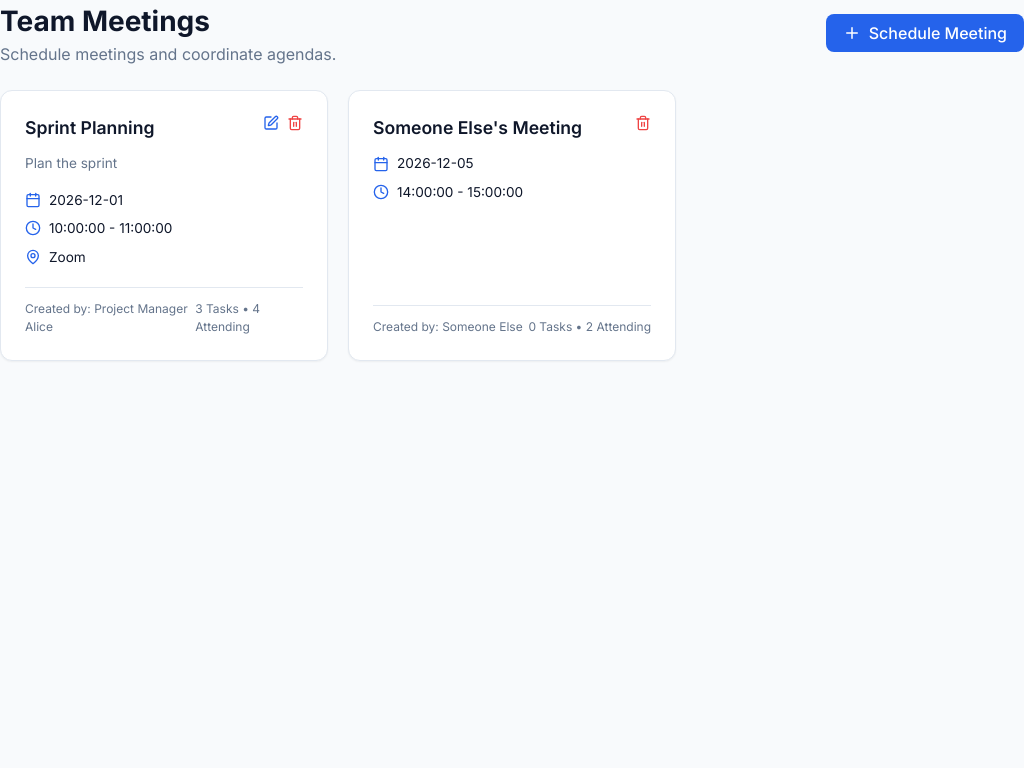
Scenario: MeetingsPage — edit meeting (real component, jsdom) › resets to create mode (empty form) after Cancel is clicked following an edit
Expected: the heading "Sprint Planning" is shown, [25,115,154,141]
Click the button titled "Edit Meeting". click: click(271, 125)
box: [263,115,279,135]
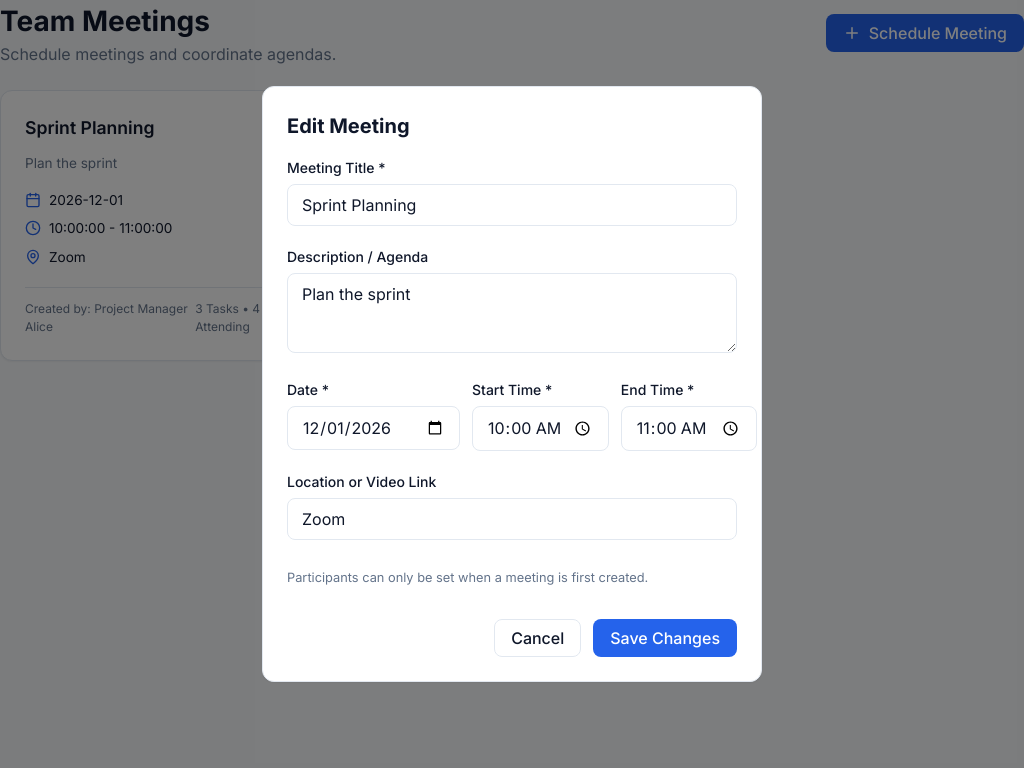
Now the heading "Edit Meeting" is shown, box [287,114,410,138]
Click the button "Cancel". click: click(538, 638)
box: [494,619,581,657]
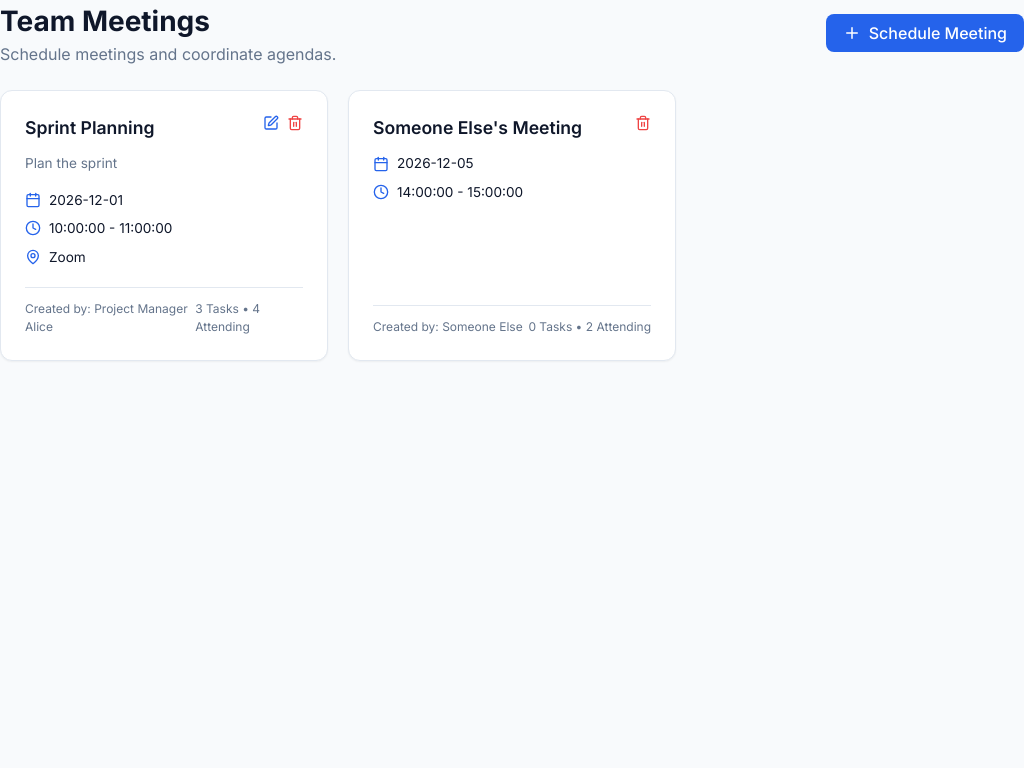
Click the button "Schedule Meeting". click: click(925, 33)
box: [826,14,1023,52]
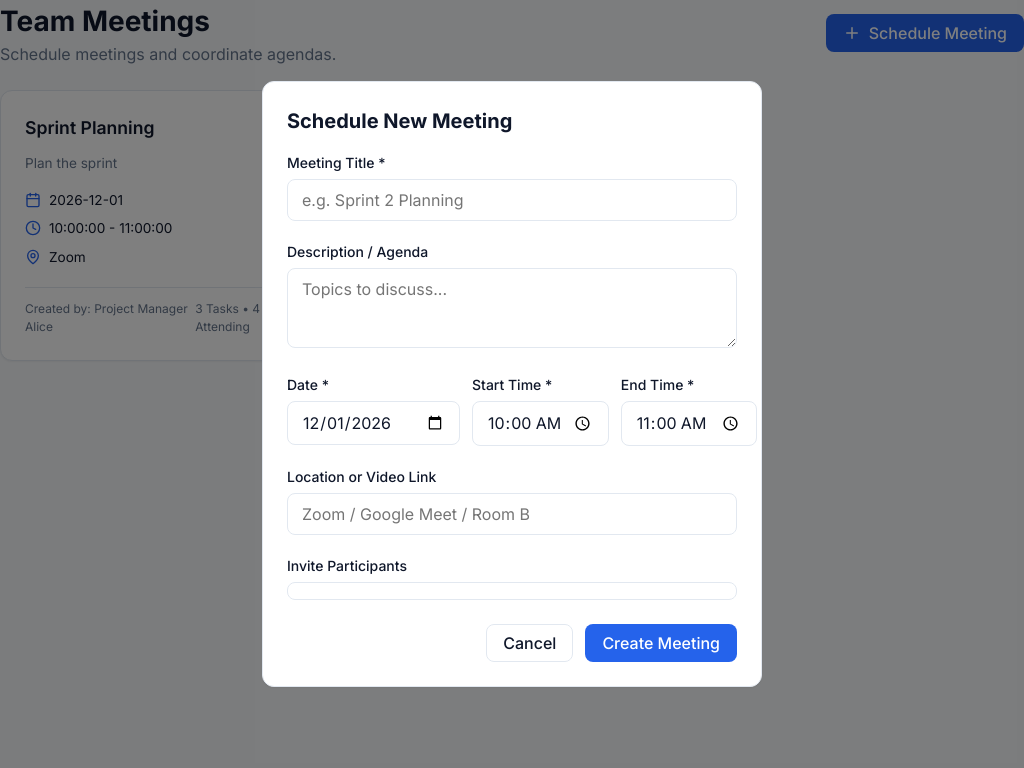
Now the heading "Schedule New Meeting" is shown, box [287,109,512,133]
Now the text "Invite Participants" is shown, box [287,557,407,574]
